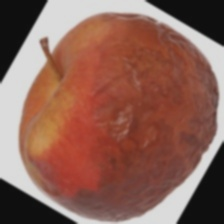apple: (39, 30, 221, 199)
